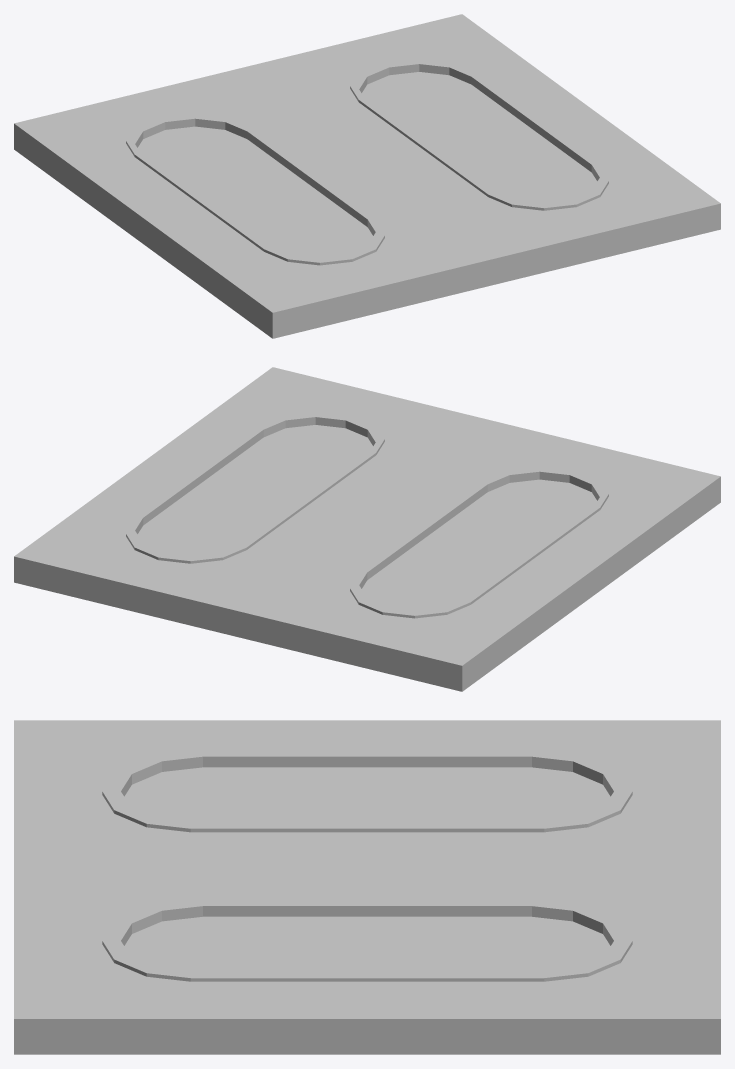
The model's file is windowWallPanel-glass.dae.
3 views of the same model, one above another, from view 1: azimuth 30°, elevation 25°; view 2: azimuth 150°, elevation 25°; view 3: azimuth 270°, elevation 25° (orthographic). The views are drawn at different scales.
Parts seen in each view (by area): view 1: Cube, window; view 2: Cube, window; view 3: Cube, window.
Boxes of the visible parts, bbox=[...] form: Cube: bbox=[14, 14, 720, 338]; window: bbox=[138, 72, 597, 257]; Cube: bbox=[14, 367, 720, 691]; window: bbox=[137, 425, 596, 610]; Cube: bbox=[14, 720, 720, 1054]; window: bbox=[124, 767, 610, 975].
Size of the model in its own units: 1.8 by 1.8 by 0.11.
Materials: 1 (1 with a texture image).
